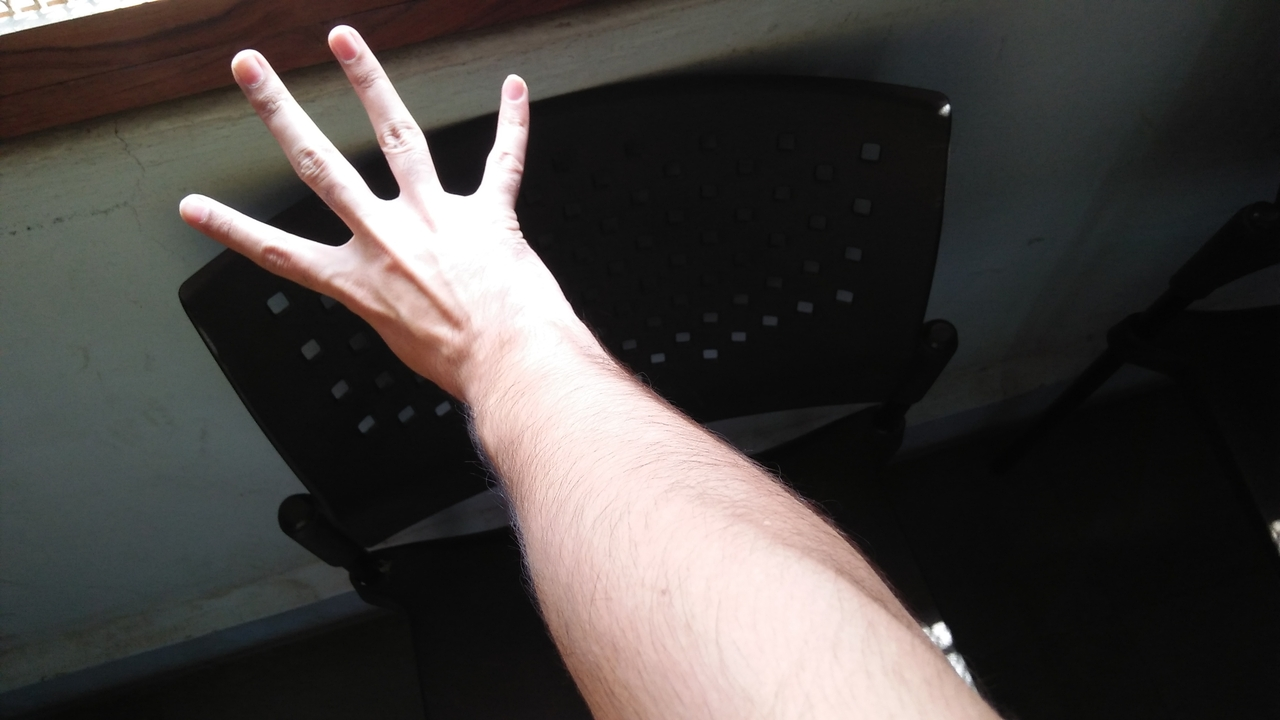fingertip: (216, 38, 276, 90), (318, 16, 372, 64), (166, 191, 222, 234), (486, 58, 538, 98)
